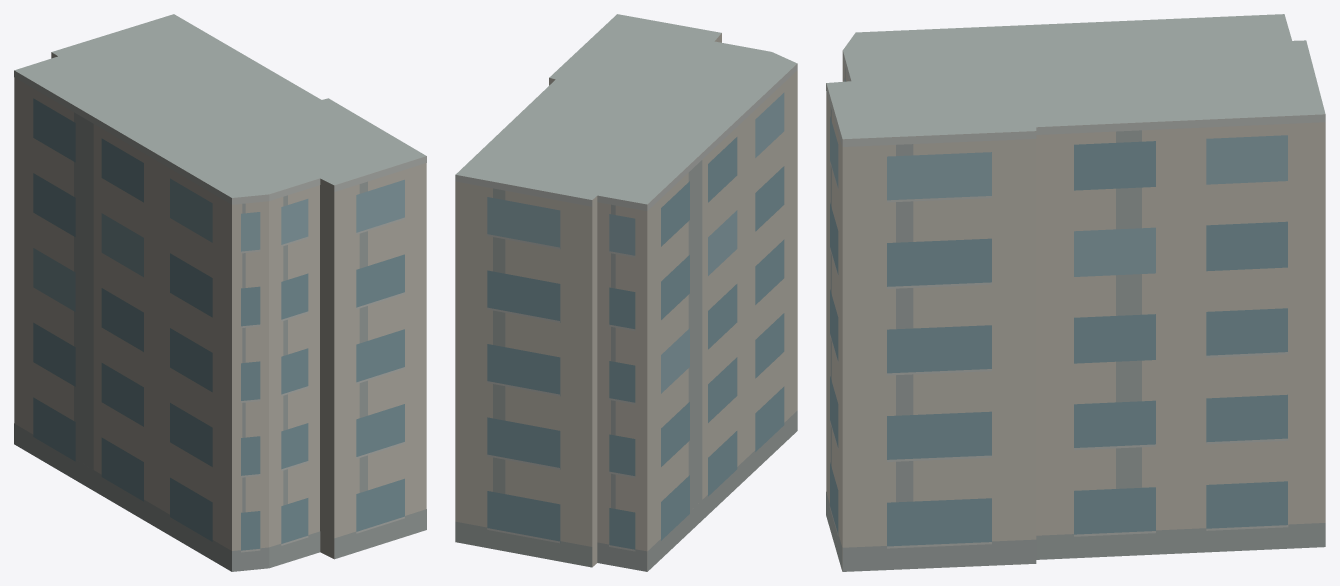
Rendered from survey-upis-32759165.glb.
3 renders of one model, left to right at view 1: azimuth 30°, elevation 25°; view 2: azimuth 150°, elevation 25°; view 3: azimuth 270°, elevation 25°, orthographic. The views are drawn at different scales.
Parts seen in each view (by area): view 1: survey-upis-32759165.tmp; view 2: survey-upis-32759165.tmp; view 3: survey-upis-32759165.tmp.
Boxes of the visible parts, x1,y1,x2,y2 form: survey-upis-32759165.tmp: (14,14,426,571); survey-upis-32759165.tmp: (455,14,797,571); survey-upis-32759165.tmp: (826,14,1325,571).
Bounding box in the file's own units: 8.32 × 13.4 × 14.03.
